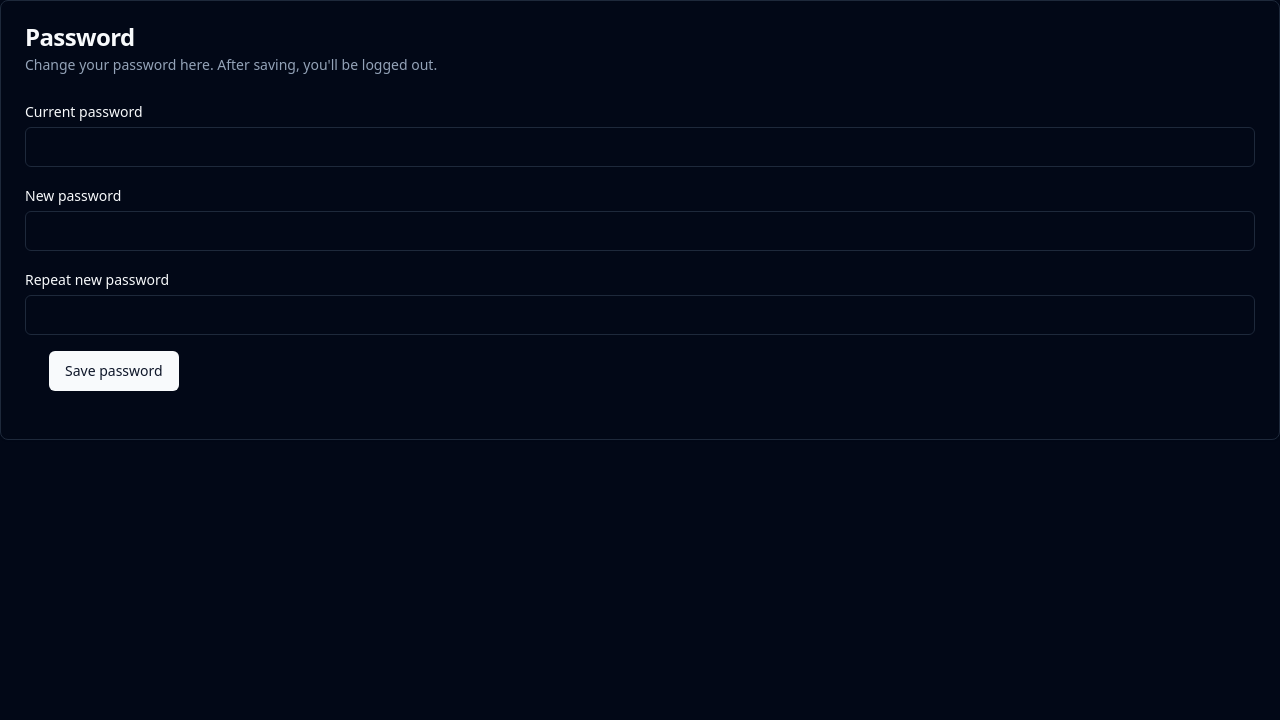
Test: PasswordTab › displays validation errors for password fields
The width and height of the screenshot is (1280, 720).
Click the button "Save password". click: (114, 371)
box: [49,351,179,391]
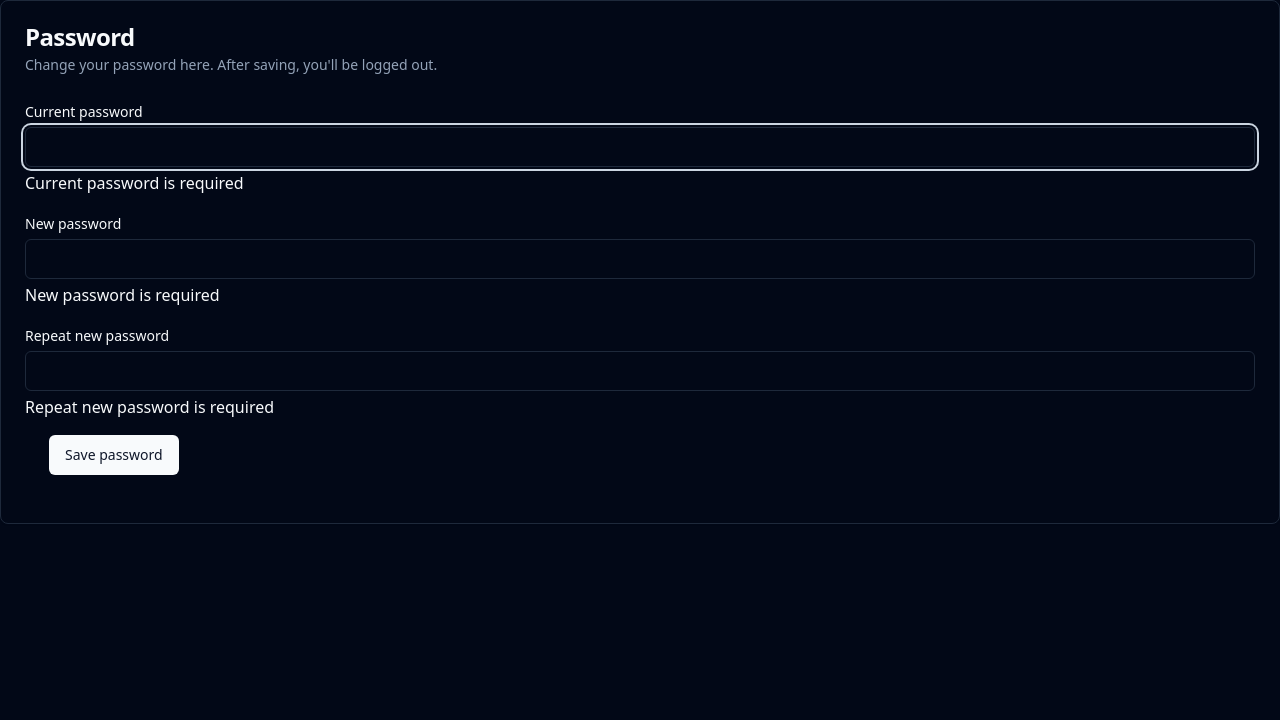
Expected: the text "Current password is required" is shown, [25,172,244,194]
Expected: the text "New password is required" is shown, [25,284,220,306]
Expected: the text "Repeat new password is required" is shown, [25,396,274,418]
